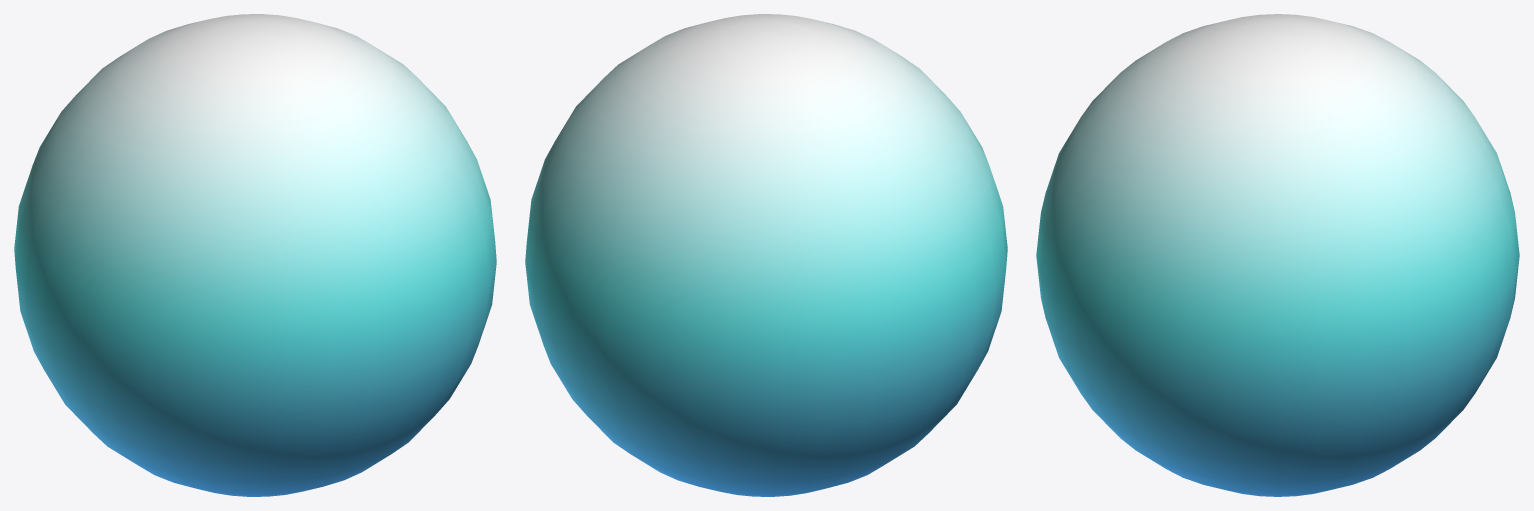
The model's file is TCS_Exhibition_Entrance.fbx.
3 views of the same model, side by side, from view 1: azimuth 30°, elevation 25°; view 2: azimuth 150°, elevation 25°; view 3: azimuth 270°, elevation 25° (orthographic).
Parts seen in each view (by area): view 1: Sphere; view 2: Sphere; view 3: Sphere.
Part boxes in pixels (box(x1,y1,x2,y2)): Sphere: box(14, 14, 496, 496); Sphere: box(525, 14, 1007, 496); Sphere: box(1036, 14, 1519, 496).
Size of the model in its own units: 83.72 by 83.72 by 83.72.
